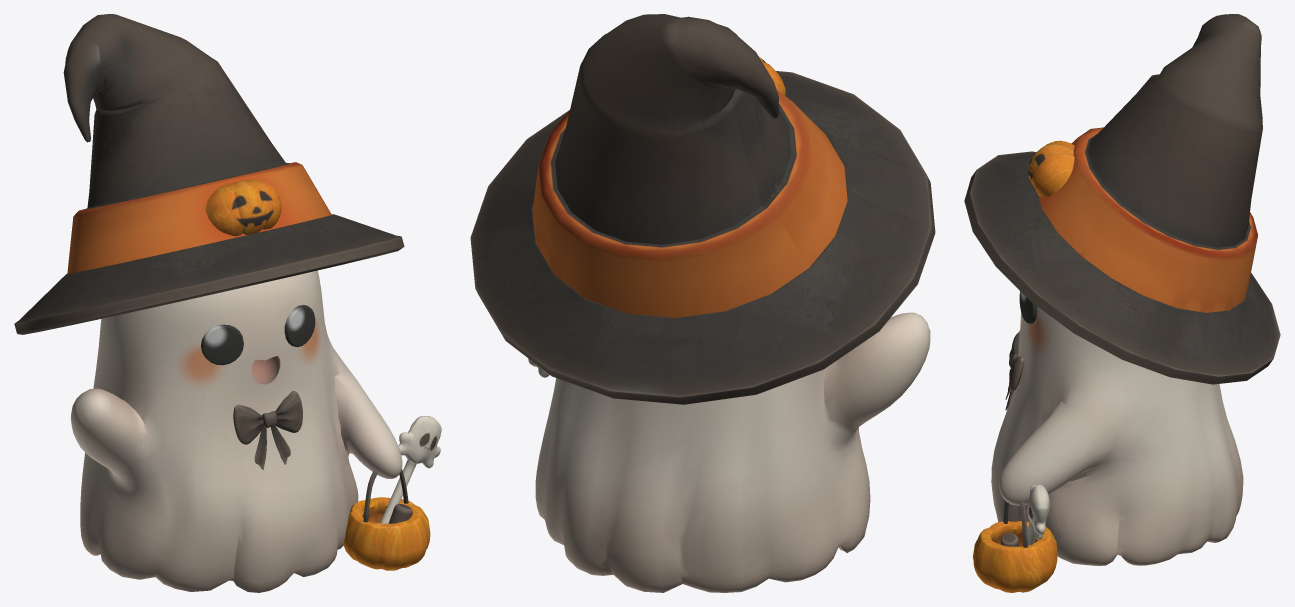
Rendered from halloween_ghost.glb.
3 renders of one model, left to right at view 1: azimuth 30°, elevation 25°; view 2: azimuth 150°, elevation 25°; view 3: azimuth 270°, elevation 25°, orthographic. The views are drawn at different scales.
Visible parts, largest first — view 1: Cuerpo_low, Gorro_low, Canasta_low, object 4, Ojos_low, AdornoCalavera_low; view 2: Gorro_low, Cuerpo_low; view 3: Gorro_low, Cuerpo_low, Canasta_low, AdornoCalavera_low, object 4.
Part boxes in pixels (bbox=[...]): Cuerpo_low: bbox=[70, 270, 402, 592]; Gorro_low: bbox=[14, 14, 404, 334]; Canasta_low: bbox=[343, 469, 430, 570]; object 4: bbox=[233, 391, 302, 469]; Ojos_low: bbox=[201, 305, 315, 365]; AdornoCalavera_low: bbox=[380, 415, 441, 523]; Gorro_low: bbox=[470, 14, 935, 404]; Cuerpo_low: bbox=[535, 312, 930, 592]; Gorro_low: bbox=[964, 14, 1280, 384]; Cuerpo_low: bbox=[991, 306, 1243, 565]; Canasta_low: bbox=[973, 500, 1057, 592]; AdornoCalavera_low: bbox=[1027, 484, 1050, 545]; object 4: bbox=[1005, 331, 1023, 410].
Bounding box in the file's own units: 0.0382 × 0.0499 × 0.0294.
2 materials, 2 textured.
